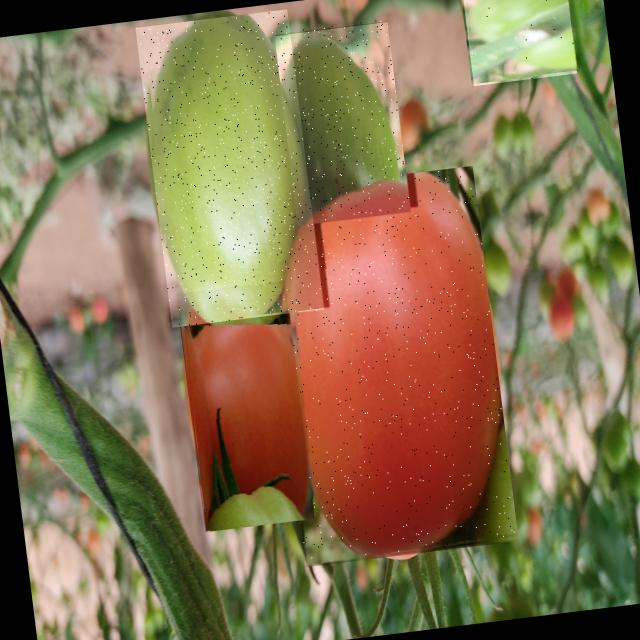Ripe Tomato: (260, 166, 518, 566), (176, 279, 314, 532)
Unripe Tomato: (135, 9, 324, 327), (274, 18, 411, 225), (461, 0, 577, 85)
